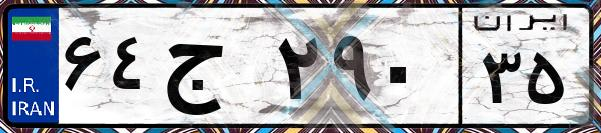0: (385, 28, 445, 110)
2: (270, 28, 330, 110)
3: (475, 38, 525, 113)
4: (110, 28, 158, 98)
5: (525, 38, 570, 115)
6: (57, 26, 110, 100)
9: (330, 28, 385, 110)
ج: (158, 20, 270, 120)
